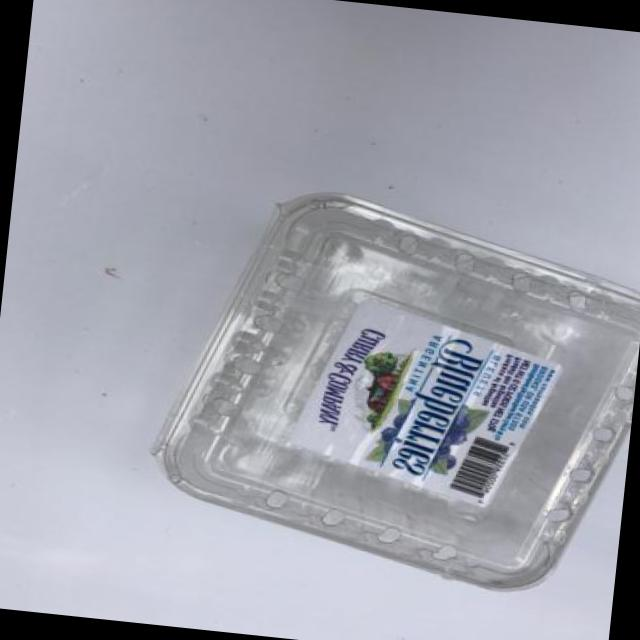Clamshell: (131, 156, 640, 607)
Label: (266, 279, 576, 526)
